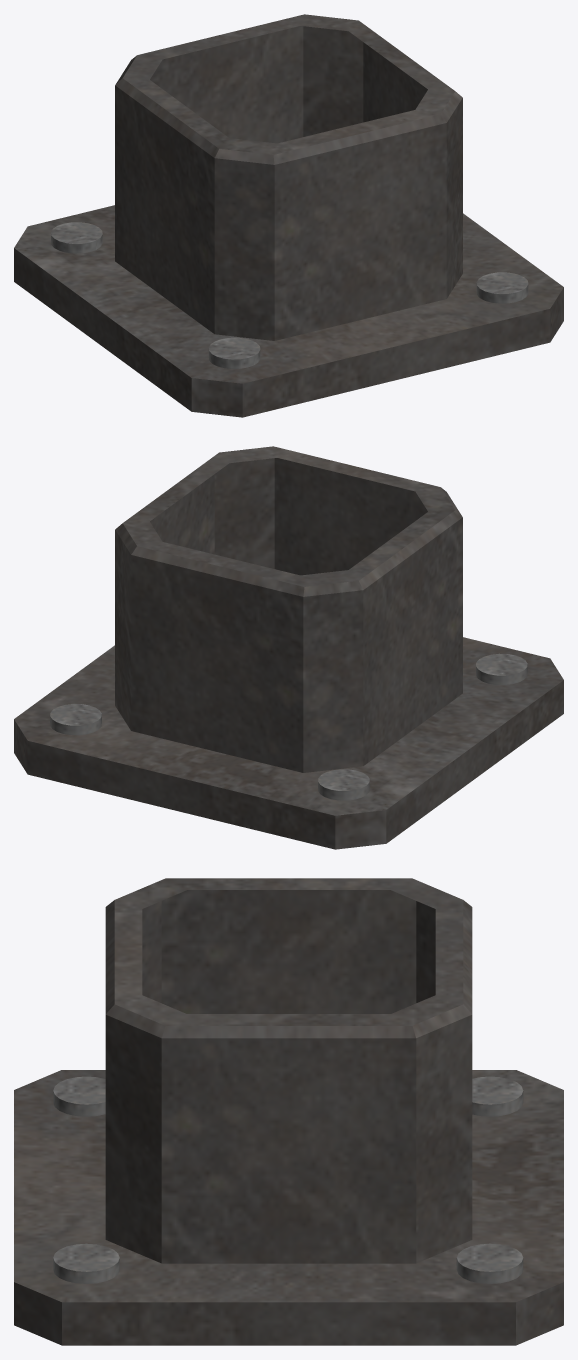
File: massive_beam_bottom.fbx
The picture shows the model from 3 angles, top to bottom: view 1: azimuth 30°, elevation 25°; view 2: azimuth 150°, elevation 25°; view 3: azimuth 270°, elevation 25°; orthographic projection. The views are drawn at different scales.
Parts seen in each view (by area): view 1: massive_beam_bottom; view 2: massive_beam_bottom; view 3: massive_beam_bottom.
Part boxes in pixels (box(x1,y1,x2,y2)): massive_beam_bottom: box(14, 14, 563, 417); massive_beam_bottom: box(14, 446, 563, 849); massive_beam_bottom: box(14, 878, 563, 1345).
Bounding box in the file's own units: 334 × 186 × 334.
